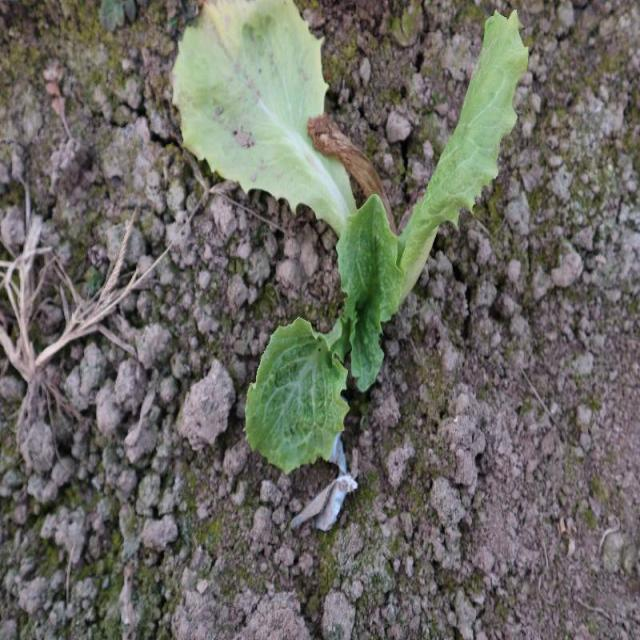crop: (246, 191, 411, 474)
